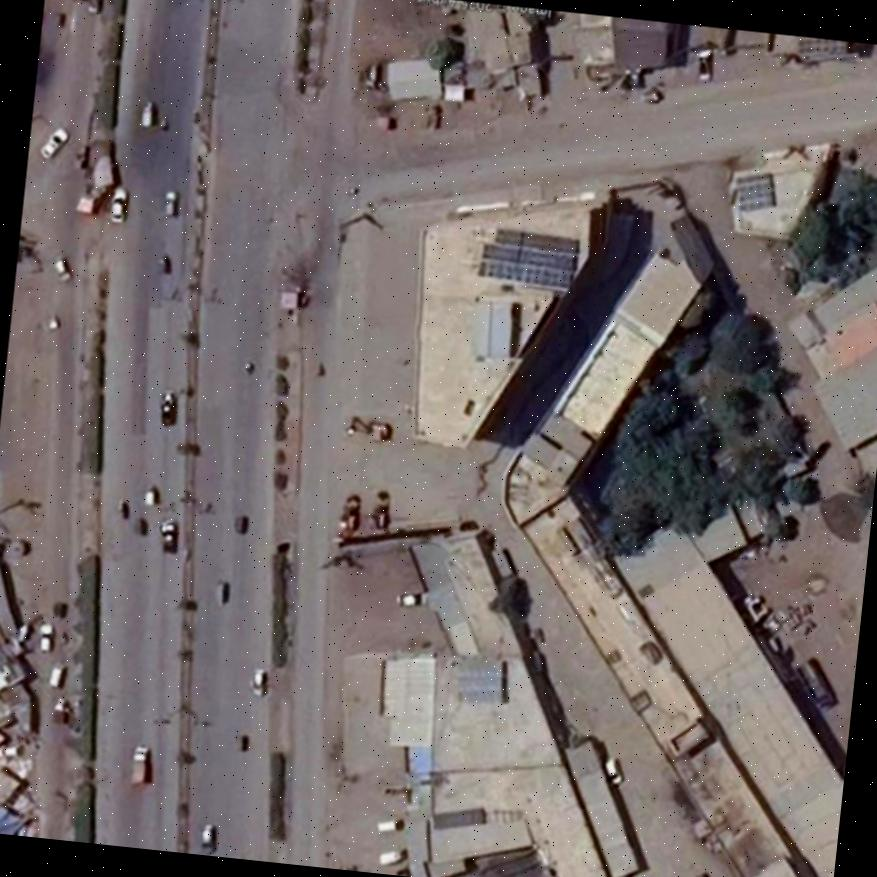Solarpanel: (479, 229, 576, 289), (734, 175, 770, 211)
